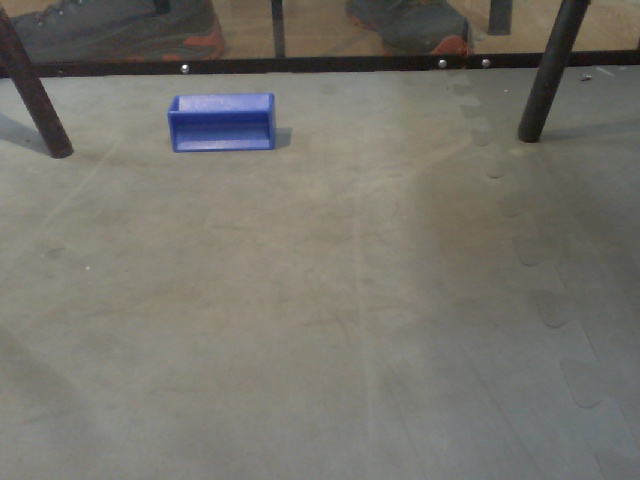BlueSample: (164, 89, 279, 154)
